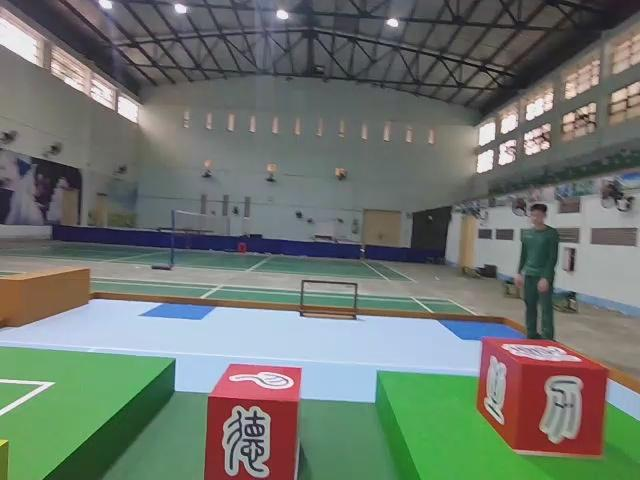R2 Fake: (475, 333, 611, 459), (201, 359, 305, 480)
